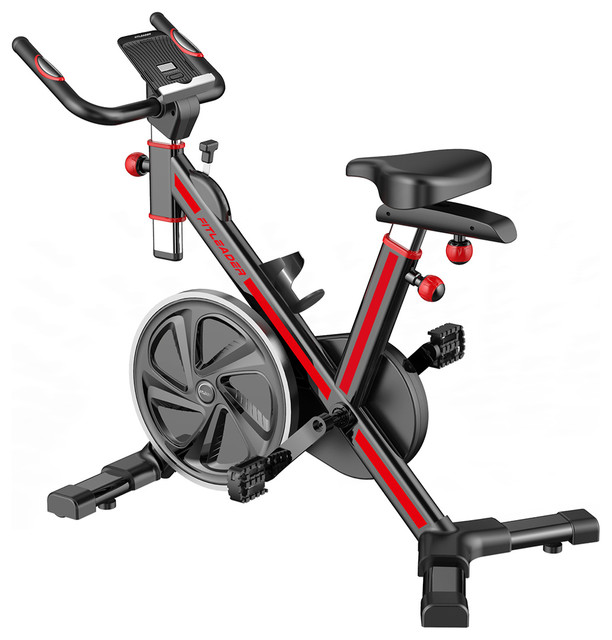gym_bike: (11, 13, 600, 623)
